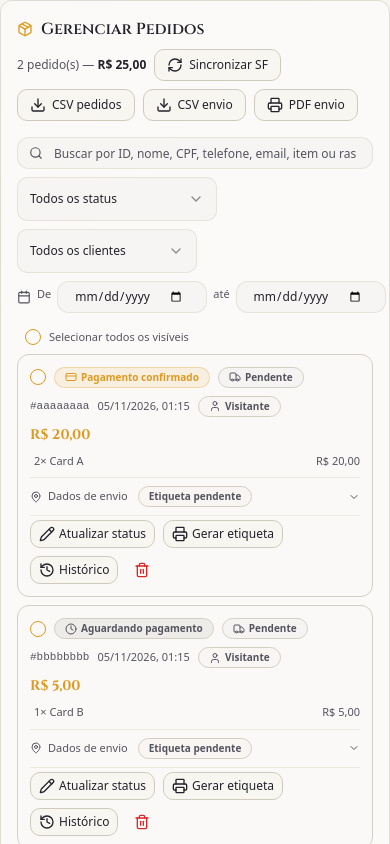
AdminOrdersPanel — delete restock warning › warns that stock WILL be restocked when deleting a payment_confirmed order
What coordinates should you click on to do the following:
click the button named "Remover pedido" below "Card A"
I would click on:
 (142, 570)
Its box is [126, 556, 158, 584].
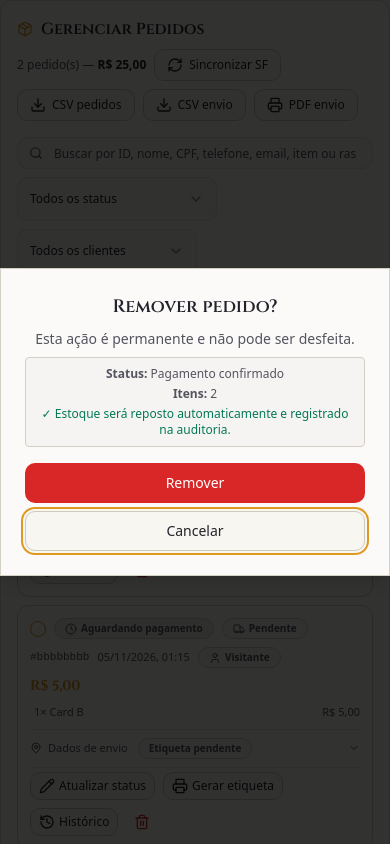
Expected: the text "Estoque será reposto automaticamente" is shown, [42, 405, 348, 438]
